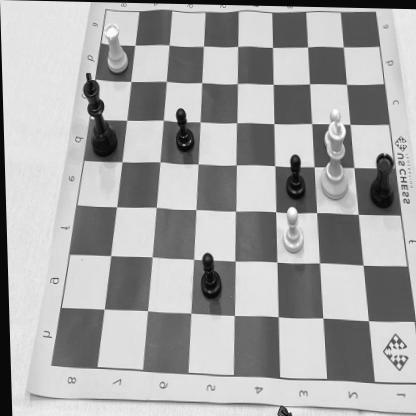black-king: (80, 64, 121, 163)
black-pawn: (194, 245, 226, 304), (170, 96, 198, 159), (281, 143, 309, 202)
black-rook: (364, 140, 404, 210)
white-king: (314, 112, 358, 204)
white-pawn: (274, 203, 306, 257), (318, 104, 348, 156)
white-rook: (102, 18, 132, 80)
